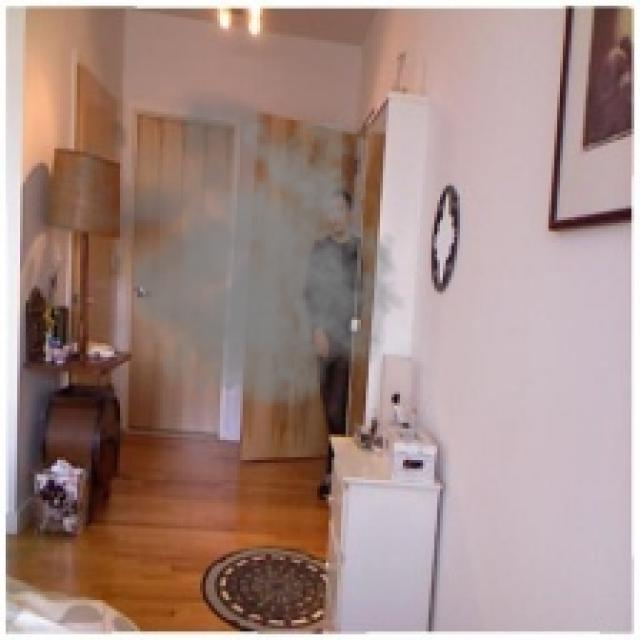Smoke: (34, 80, 406, 432)
